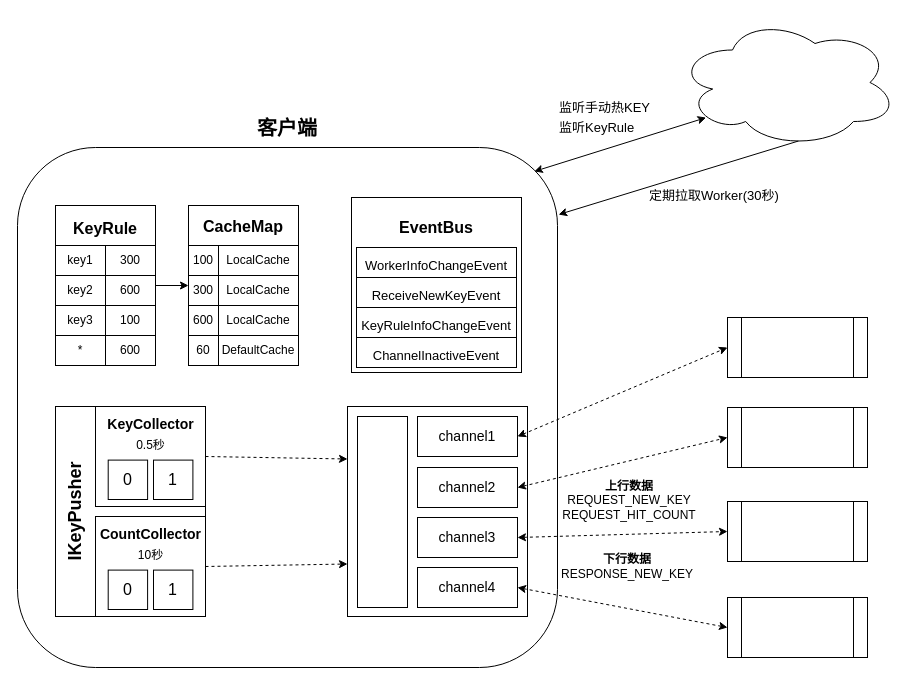
Image size: 915x685. Some labels were removed from this diagram. Each missing label, with the centre of its shape:
"ETCD集群" goes at [787,82].
"Worker1" goes at [797,347].
"Worker2" goes at [797,437].
"Worker3" goes at [797,531].
"Worker4" goes at [797,627].
"WorkerRetryConnector 30秒" goes at [382,512].
